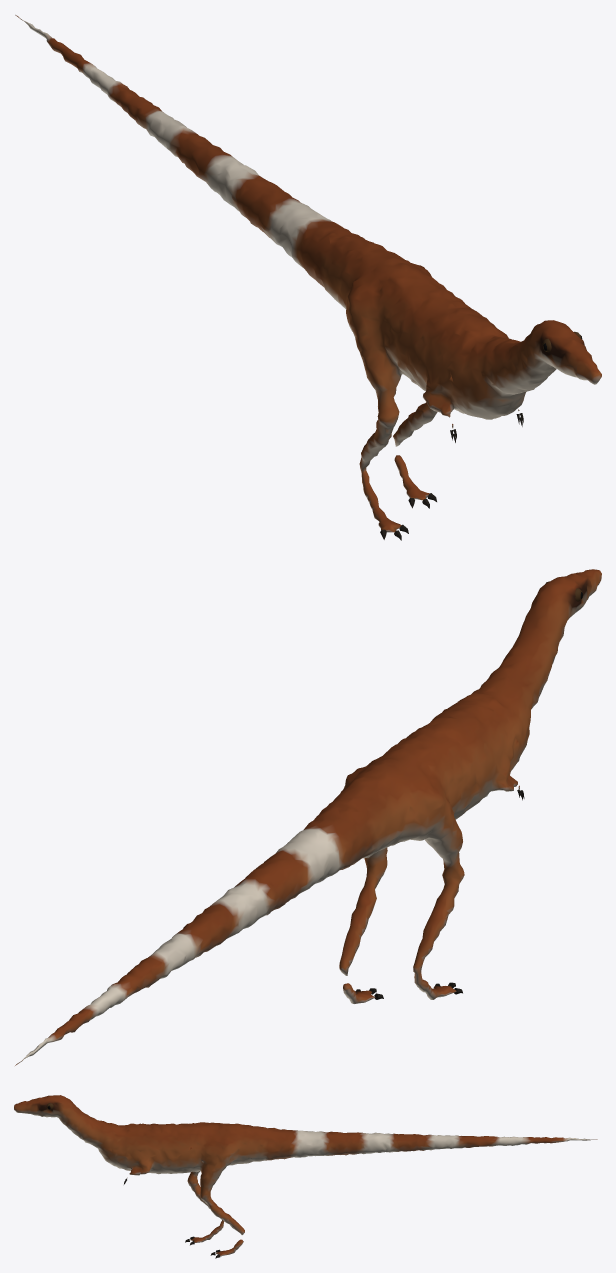
File: Sinosauropteryx.fbx
3 views of the same model, one above another, from view 1: azimuth 30°, elevation 25°; view 2: azimuth 150°, elevation 25°; view 3: azimuth 270°, elevation 25° (orthographic). The views are drawn at different scales.
Visible parts, largest first — view 1: Sinosauropteryx; view 2: Sinosauropteryx; view 3: Sinosauropteryx.
Part boxes in pixels (bbox=[...]): Sinosauropteryx: bbox=[15, 15, 601, 540]; Sinosauropteryx: bbox=[15, 569, 601, 1065]; Sinosauropteryx: bbox=[14, 1095, 597, 1258].
Bounding box in the file's own units: 0.1696 × 0.5283 × 1.84.
